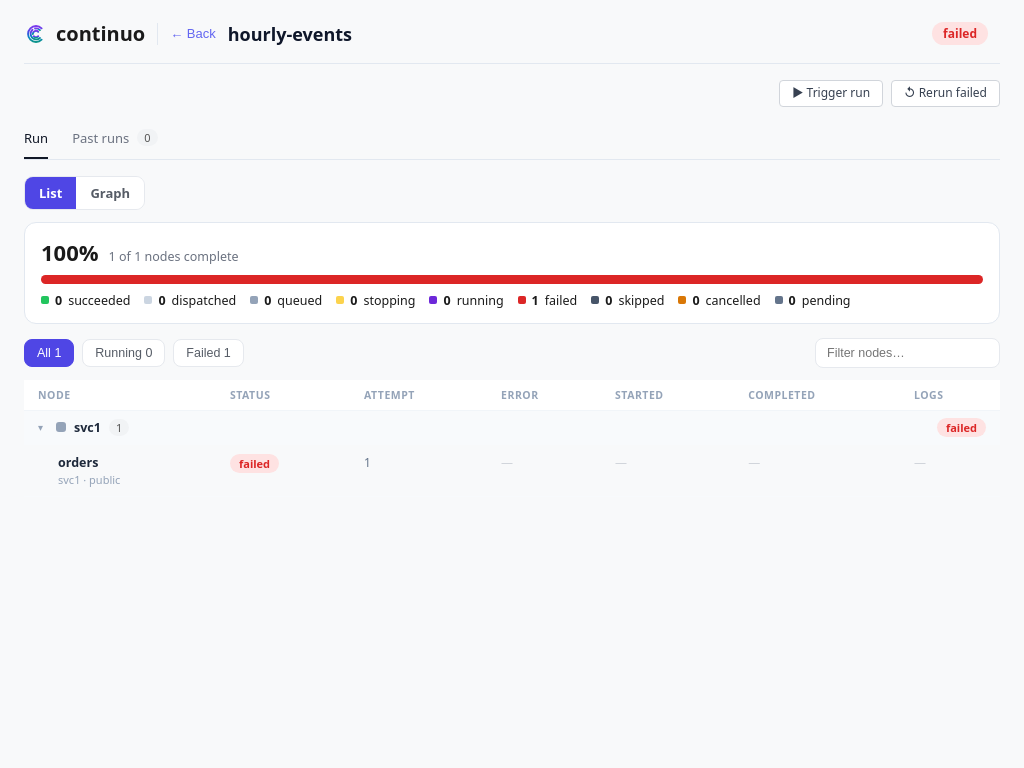
Test case: DetailPage — run-level Rerun button › opens the modal when Rerun failed button is clicked
Click the button "↺ Rerun failed": (946, 93) [891, 80, 1000, 107]
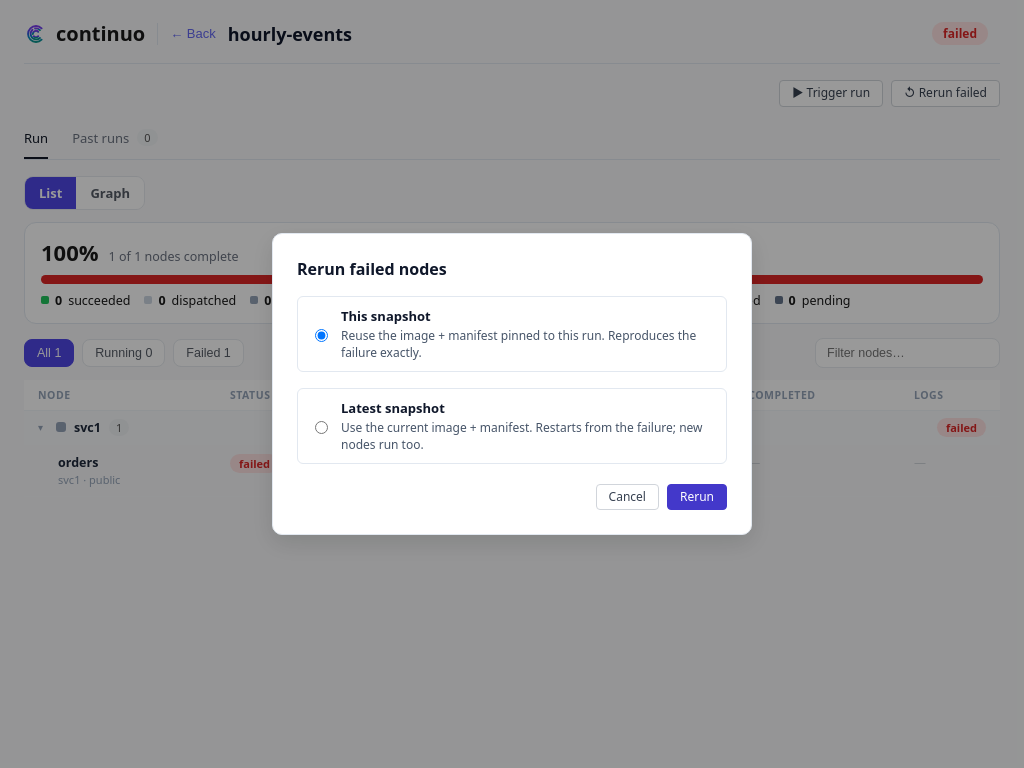
Expected: the dialog is shown, [272, 233, 752, 535]
